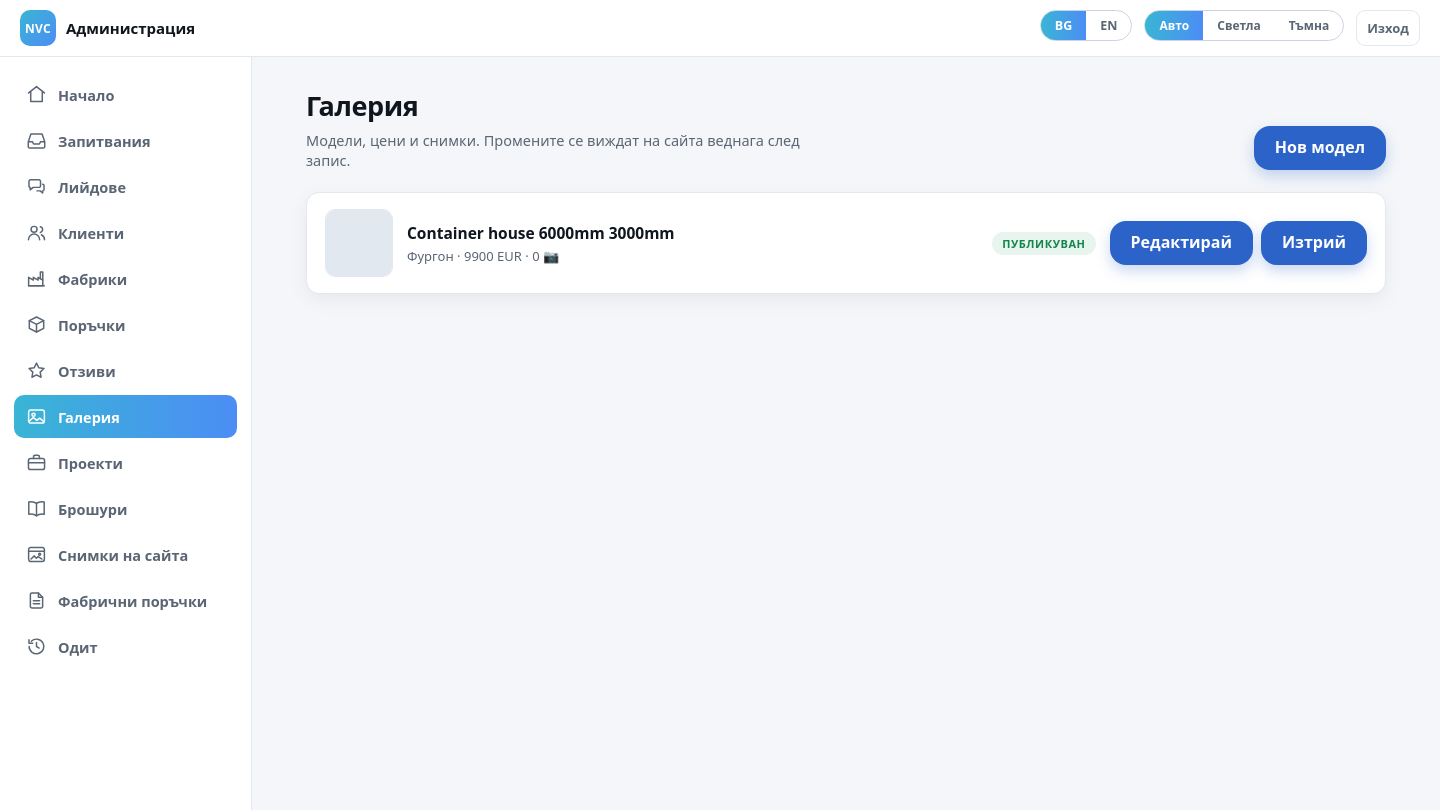
Scenario: AdminGalleryPage — old addresses (#37) › a failed read says so, and never claims there are none
The image size is (1440, 810).
Click the button "Редактирай".
click(1181, 243)  # box [1110, 221, 1253, 265]
(page scrolled)
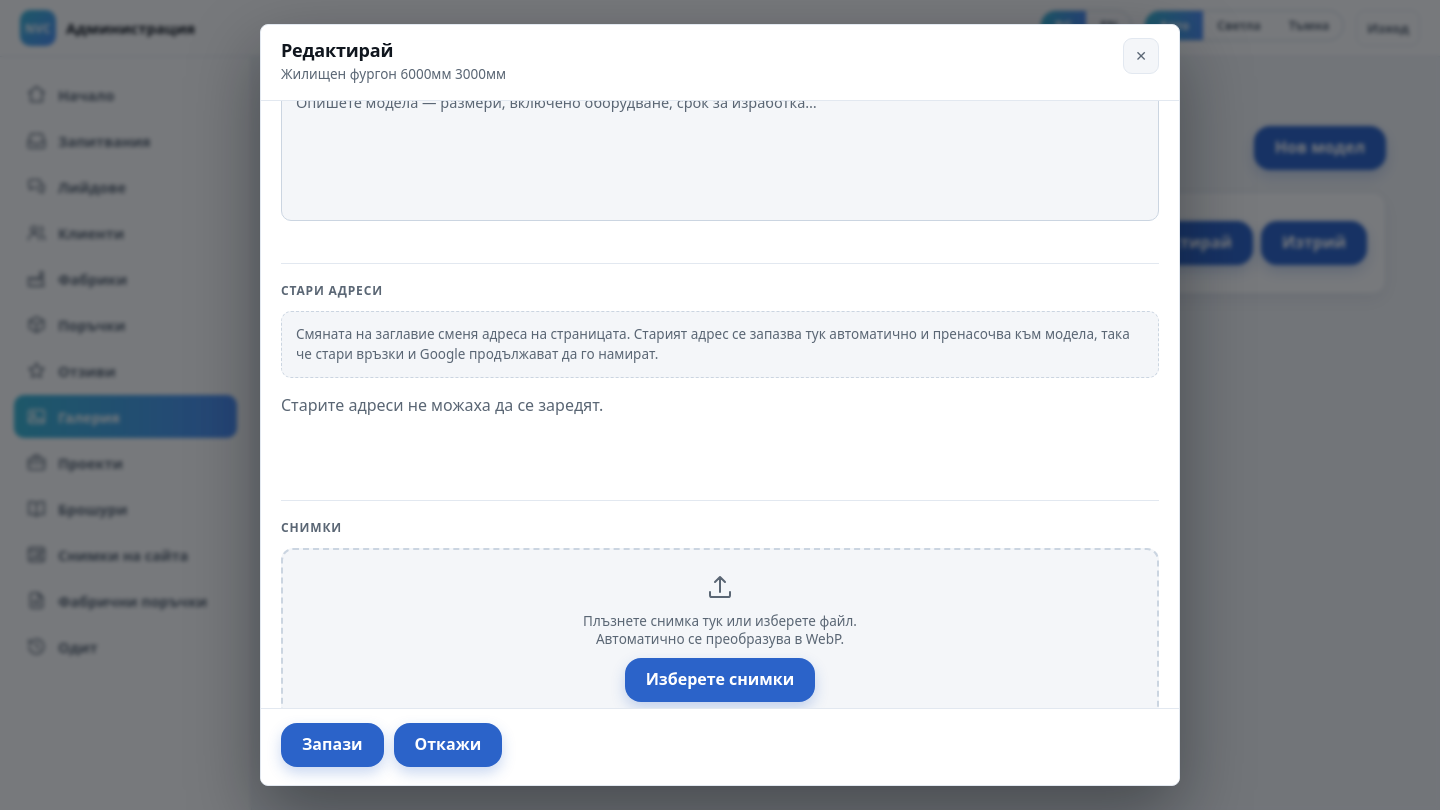
Check: the text "Старите адреси не можаха да се заредят." is shown, box [281, 394, 603, 416]
